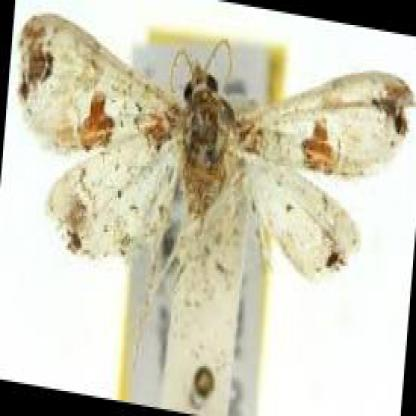leucinodes: (18, 13, 413, 280)
